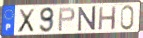0: (120, 4, 135, 31)
9: (38, 6, 55, 34)
H: (97, 6, 118, 32)
N: (77, 6, 97, 33)
P: (57, 7, 77, 33)
X: (17, 7, 36, 34)
